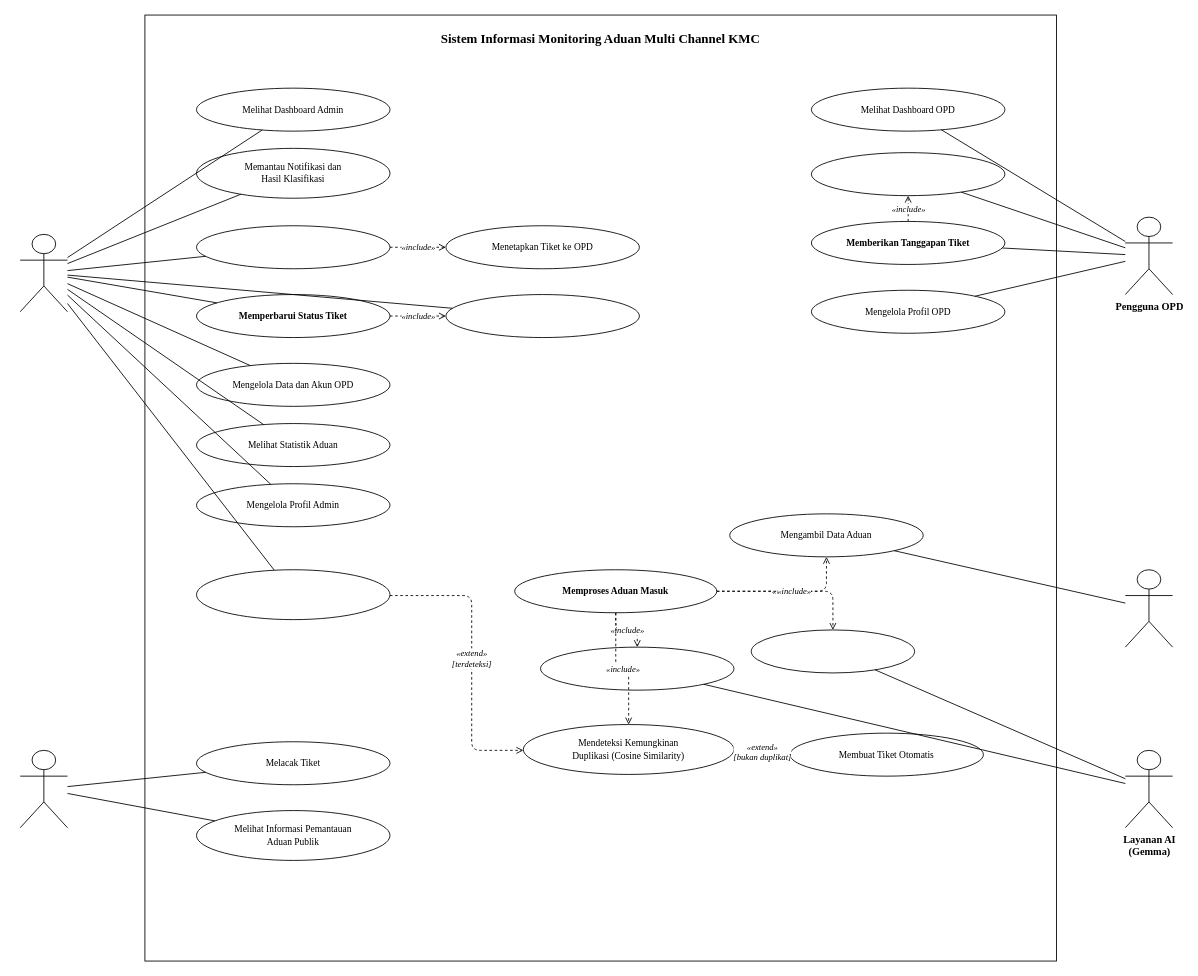
Image size: 1198x976. Some labels were removed from this diagram. Here are the shapes that lost their labels. From the top down, the centre of each, then its label:
At [908,174]: "Melihat Tiket OPD".
At [293,247]: "Mengelola Tiket".
At [43,272]: "Admin KMC".
At [542,316]: "Meninjau Tanggapan OPD".
At [293,594]: "Memverifikasi Kemungkinan Duplikasi".
At [1148,608]: "Scraper Playwright".
At [637,668]: "Mengklasifikasikan Aduan".
At [832,651]: "Menyaring Spam".
At [43,788]: "Masyarakat".
